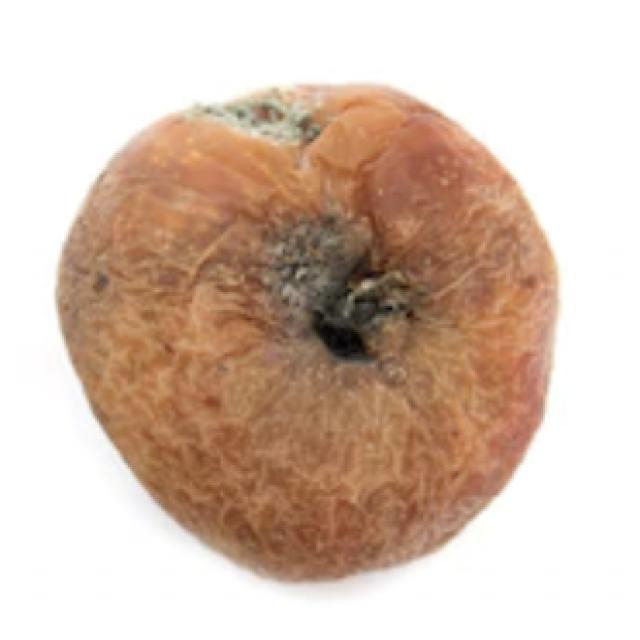Rotten: (68, 64, 562, 578)
